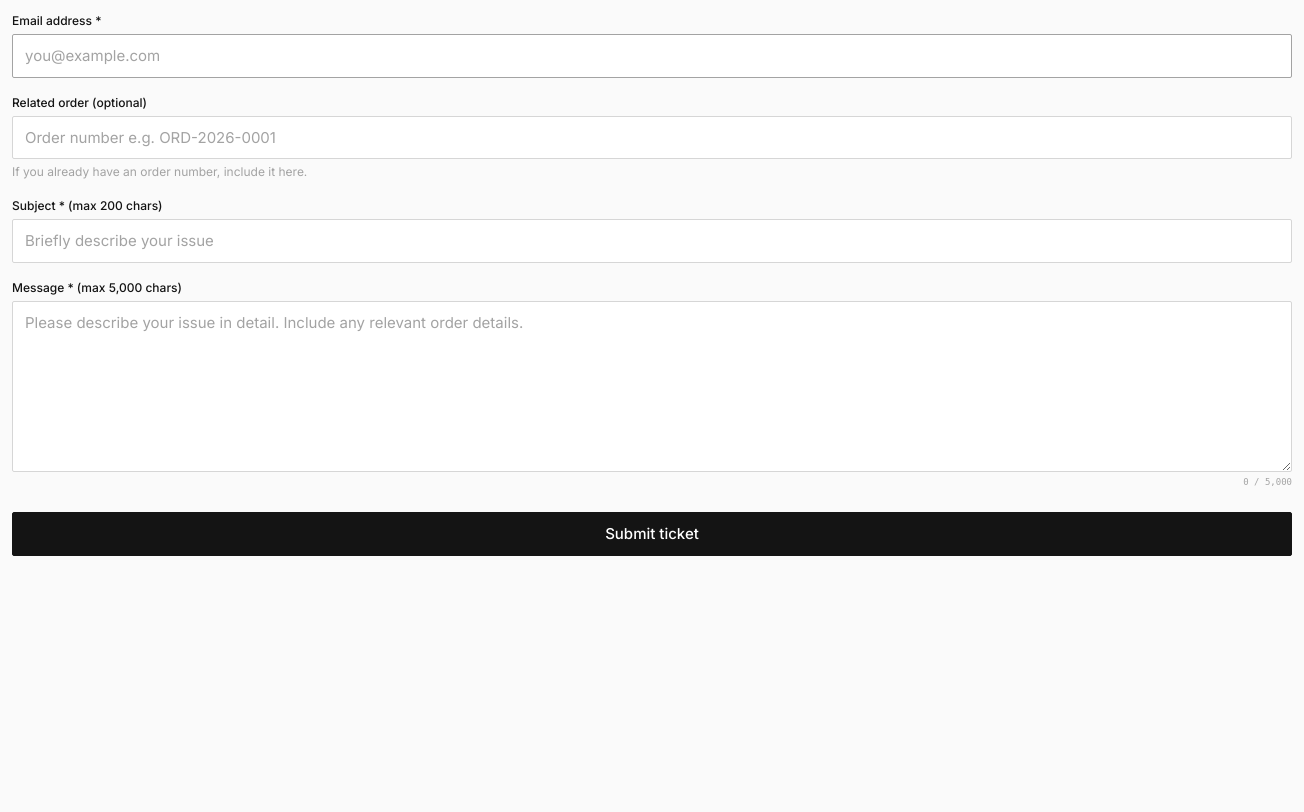
Scenario: SupportForm — guest › renders an error alert when the API fails
The width and height of the screenshot is (1304, 812).
Step 1. Type "buyer@example.com" into the field with test id "input-email" → coordinates (652, 56), box [12, 34, 1292, 78]
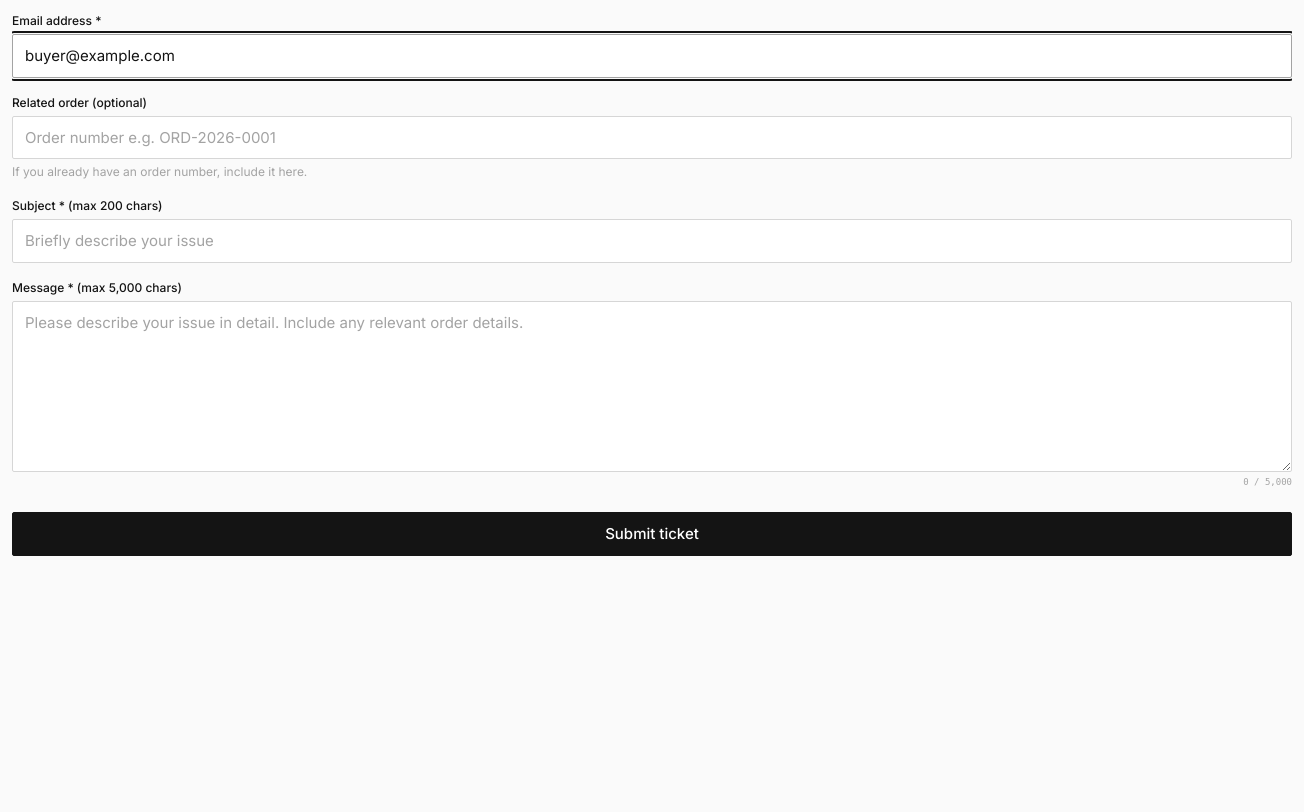
Step 2. Type "Hello" into the field with test id "input-subject" → coordinates (652, 241), box [12, 219, 1292, 262]
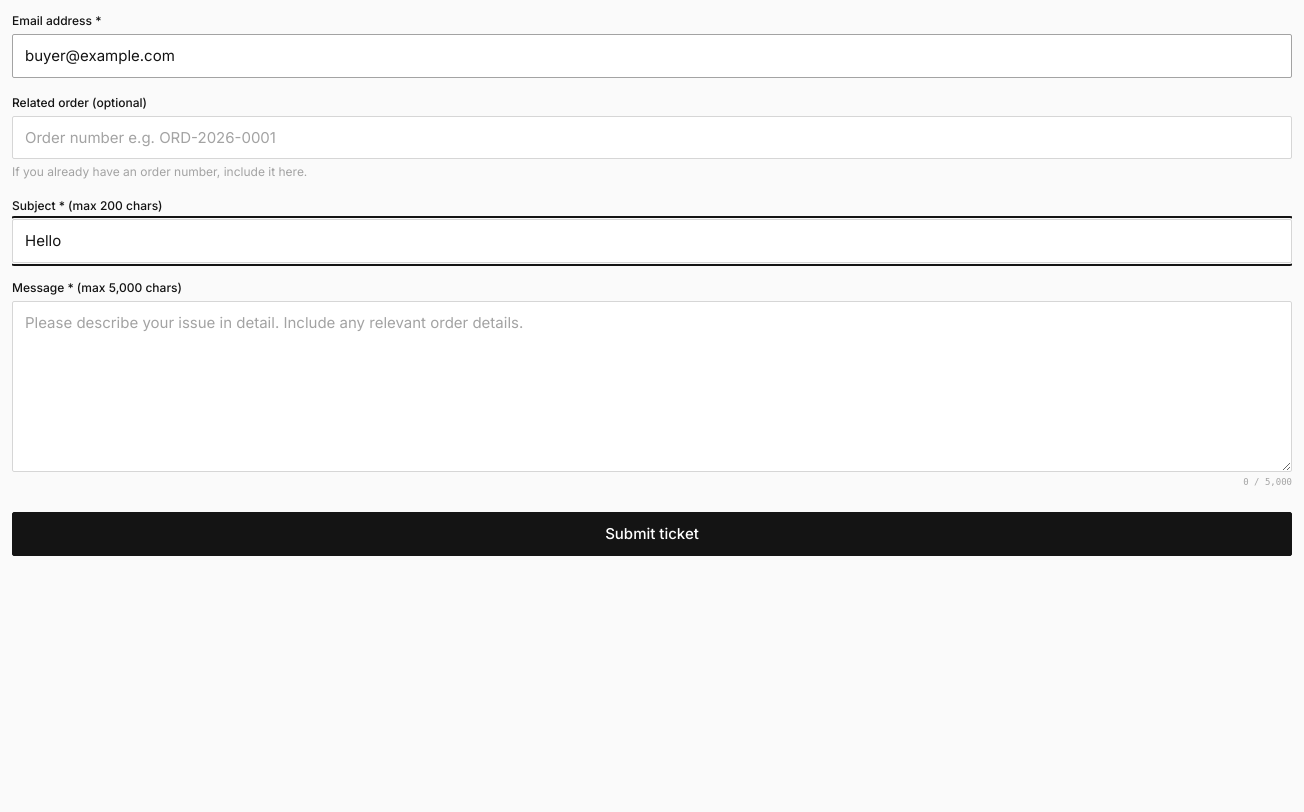
Step 3. Type "Message body here." into the text box with test id "input-body" → coordinates (652, 386), box [12, 300, 1292, 472]
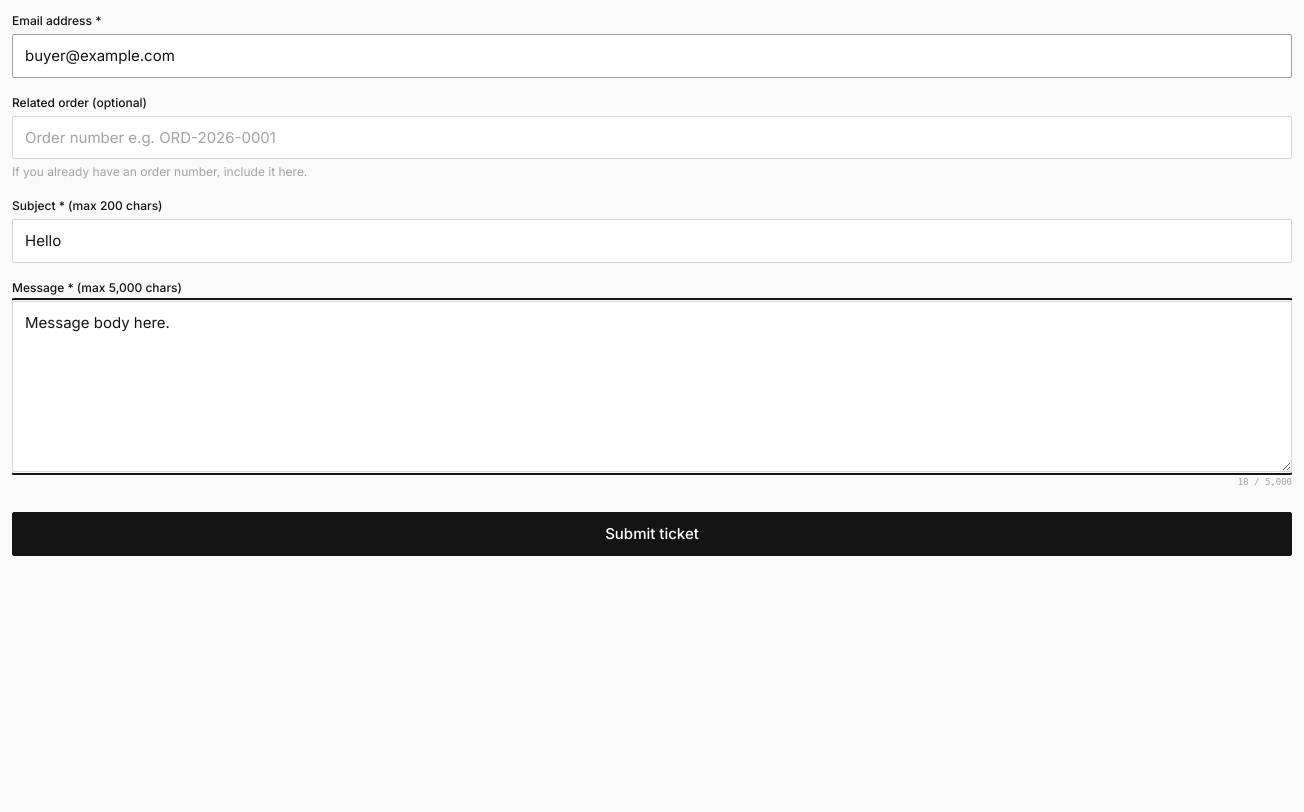
Step 4. Click the button with test id "support-submit" → coordinates (652, 534), box [12, 512, 1292, 556]
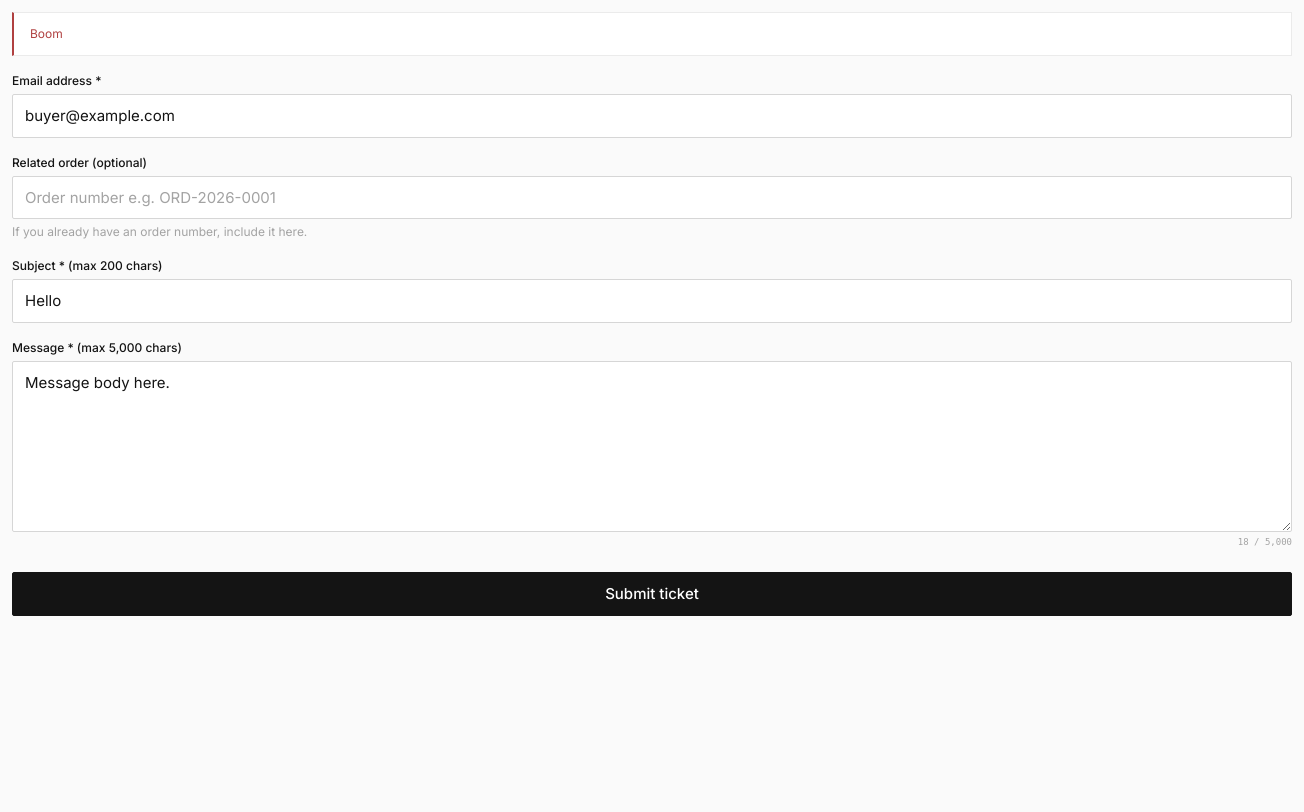
expect the element with test id "support-api-error" is shown: met, box [12, 12, 1292, 56]
